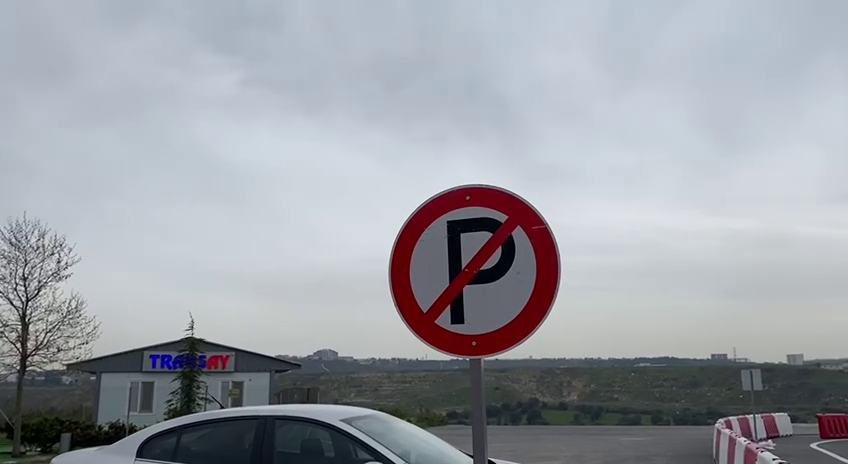noparking: (381, 179, 567, 363)
